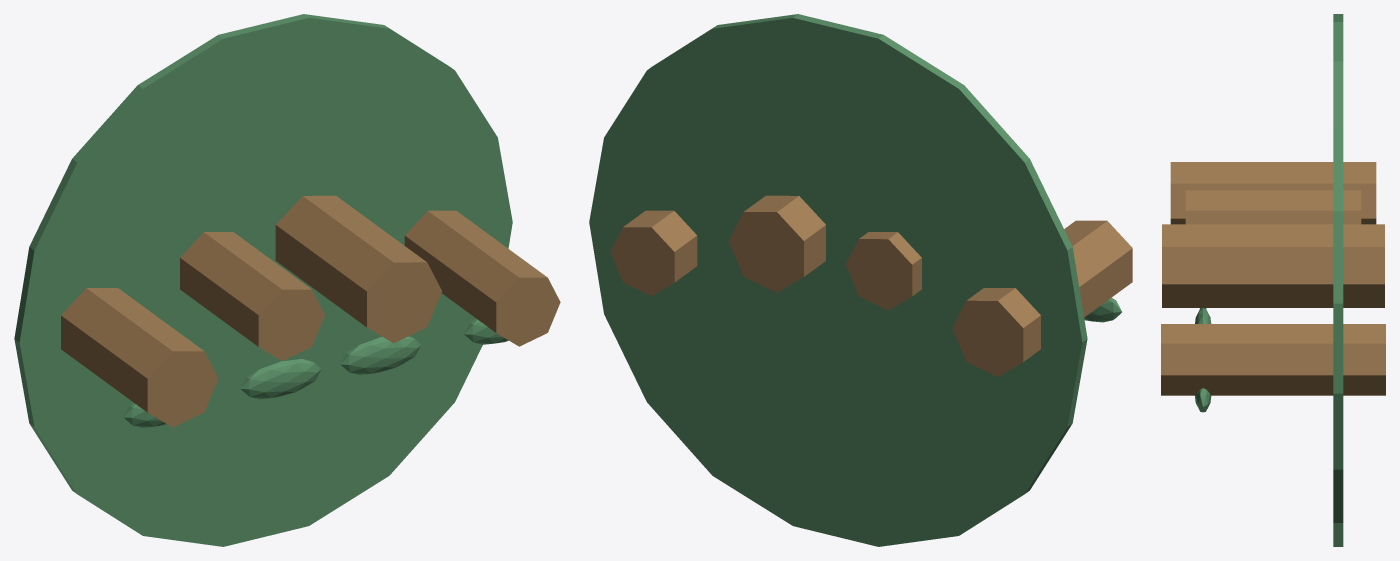
The model's file is 02_display_prop_cluster.glb.
The picture shows the model from 3 angles, left to right: view 1: azimuth 30°, elevation 25°; view 2: azimuth 150°, elevation 25°; view 3: azimuth 270°, elevation 25°; orthographic projection. The views are drawn at different scales.
Visible parts, largest first — view 1: scatter_base, root_stump_2, root_stump_0, root_stump_3, root_stump_1, moss_1, moss_2, moss_3; view 2: scatter_base, root_stump_0, root_stump_2, root_stump_3, root_stump_1; view 3: root_stump_2, root_stump_3, root_stump_0, root_stump_1, scatter_base, moss_3.
Part boxes in pixels (x1,y1,x2,y2): scatter_base: (14,14,512,546); root_stump_2: (275,195,441,343); root_stump_0: (61,288,218,427); root_stump_3: (404,210,560,346); root_stump_1: (180,232,324,360); moss_1: (240,359,321,399); moss_2: (340,336,420,374); moss_3: (464,319,508,344); scatter_base: (589,14,1087,546); root_stump_0: (952,220,1132,376); root_stump_2: (728,195,825,292); root_stump_3: (610,210,697,295); root_stump_1: (845,232,921,310); root_stump_2: (1162,224,1384,307); root_stump_3: (1161,324,1385,395); root_stump_0: (1170,162,1376,224); root_stump_1: (1185,190,1361,224); scatter_base: (1333,14,1343,546); moss_3: (1195,388,1211,412).
Size of the model in its own units: 1.9 by 1.87 by 0.7985.
